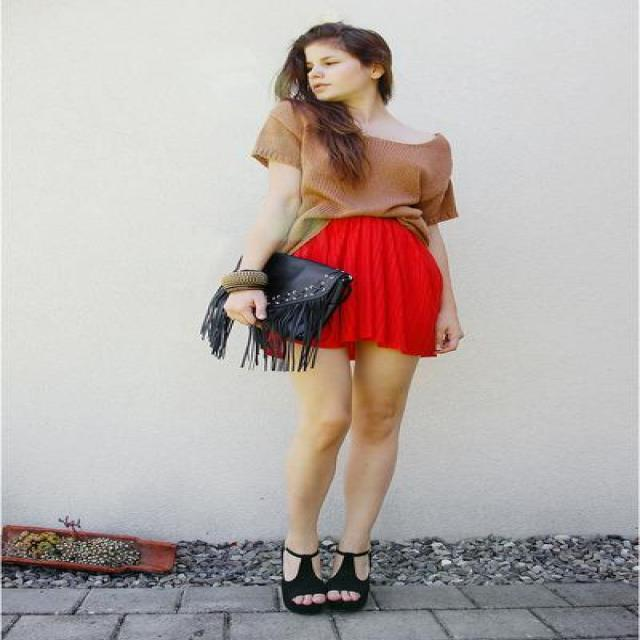bag: (200, 252, 352, 371)
shirt: (251, 101, 456, 234)
shoe: (278, 542, 381, 616)
skirt: (293, 215, 442, 356)
